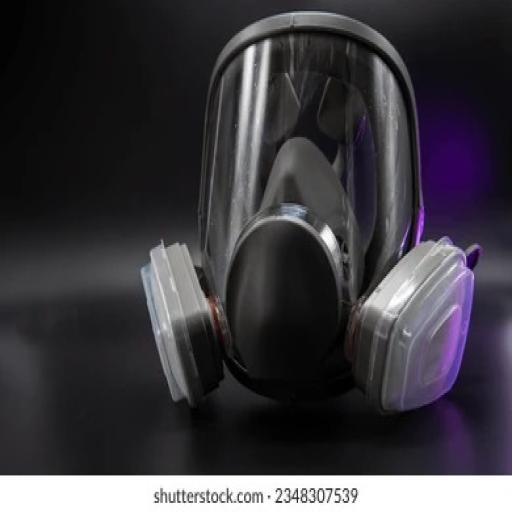mask: (138, 148, 480, 443)
